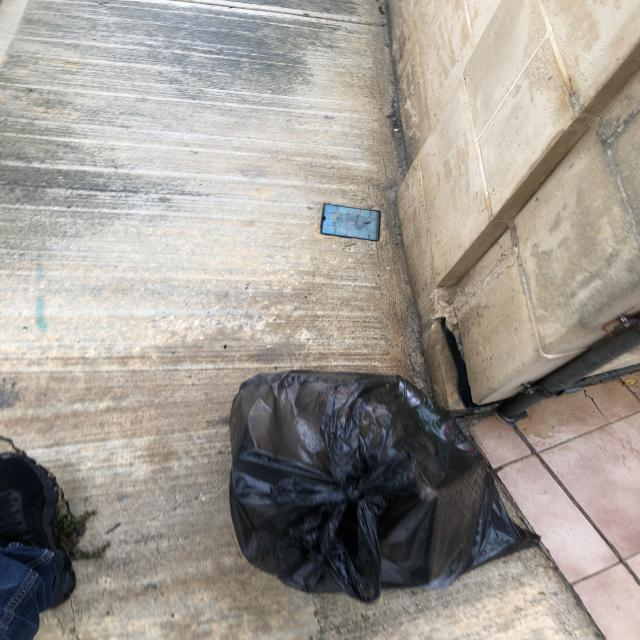Mixed Waste -Black Bag-: (228, 372, 543, 602)
